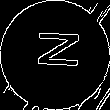N_W: (29, 34, 81, 76)
